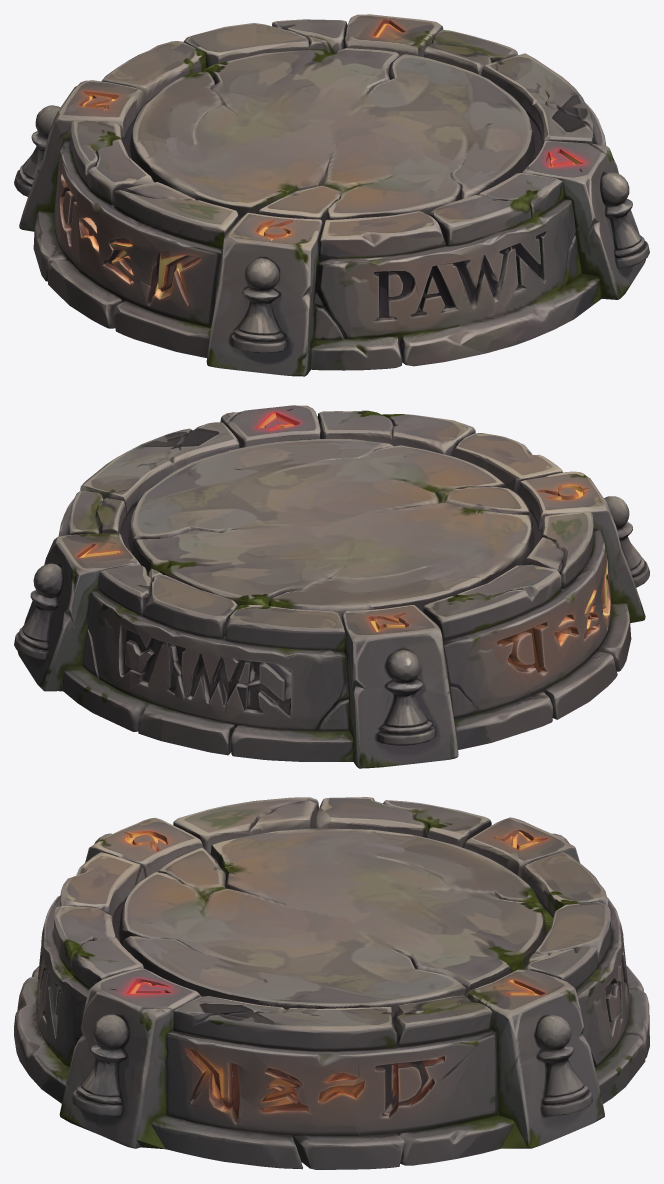
Rendered from pawn_foundation.glb.
The picture shows the model from 3 angles, top to bottom: view 1: azimuth 30°, elevation 25°; view 2: azimuth 150°, elevation 25°; view 3: azimuth 270°, elevation 25°; orthographic projection. The views are drawn at different scales.
Visible parts, largest first — view 1: Mesh_0; view 2: Mesh_0; view 3: Mesh_0.
Part boxes in pixels (x1=…): Mesh_0: x1=14, y1=14, x2=649, y2=376; Mesh_0: x1=14, y1=405, x2=649, y2=768; Mesh_0: x1=14, y1=797, x2=649, y2=1169.
Size of the model in its own units: 1.9 by 0.409 by 1.9.
Materials: 1 (1 with a texture image).
